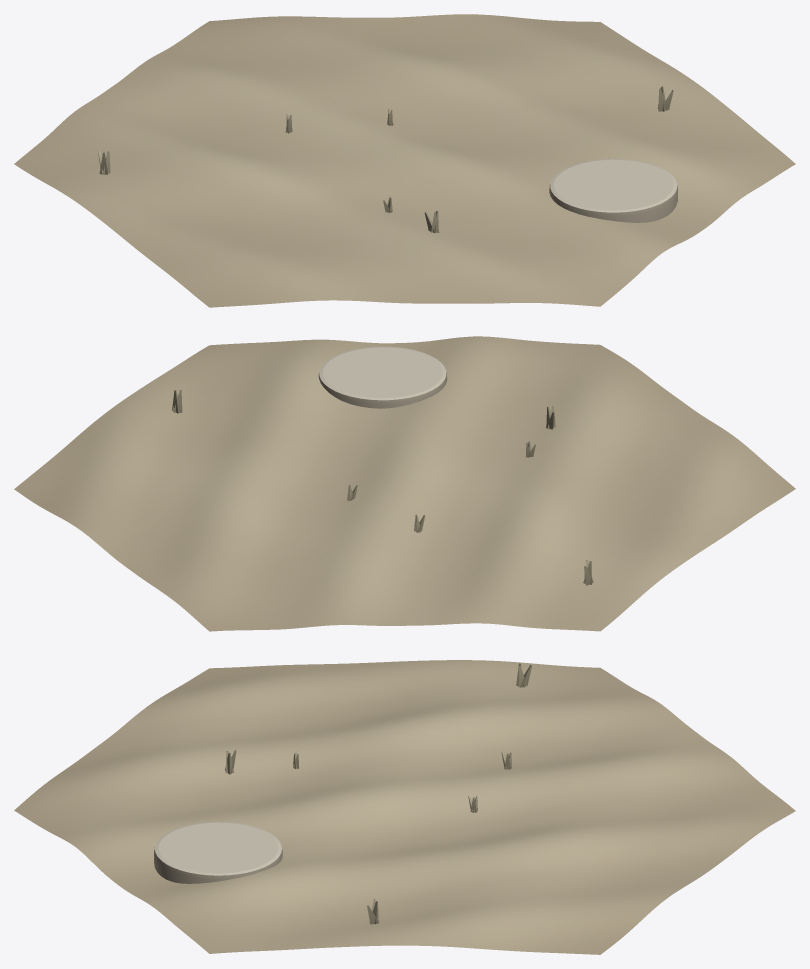
Rendered from terrain_desert.glb.
The picture shows the model from 3 angles, top to bottom: view 1: azimuth 30°, elevation 25°; view 2: azimuth 150°, elevation 25°; view 3: azimuth 270°, elevation 25°; orthographic projection.
Parts seen in each view (by area): view 1: desert_ground, pad_robber_desert; view 2: desert_ground, pad_robber_desert; view 3: desert_ground, pad_robber_desert.
Boxes of the visible parts, left/top/right/bottom form: desert_ground: left=14, top=14, right=795, bottom=307; pad_robber_desert: left=549, top=159, right=677, bottom=222; desert_ground: left=14, top=336, right=795, bottom=631; pad_robber_desert: left=318, top=346, right=447, bottom=408; desert_ground: left=14, top=660, right=795, bottom=954; pad_robber_desert: left=154, top=821, right=282, bottom=883.
Size of the model in its own units: 1.52 by 0.0969 by 1.76.
